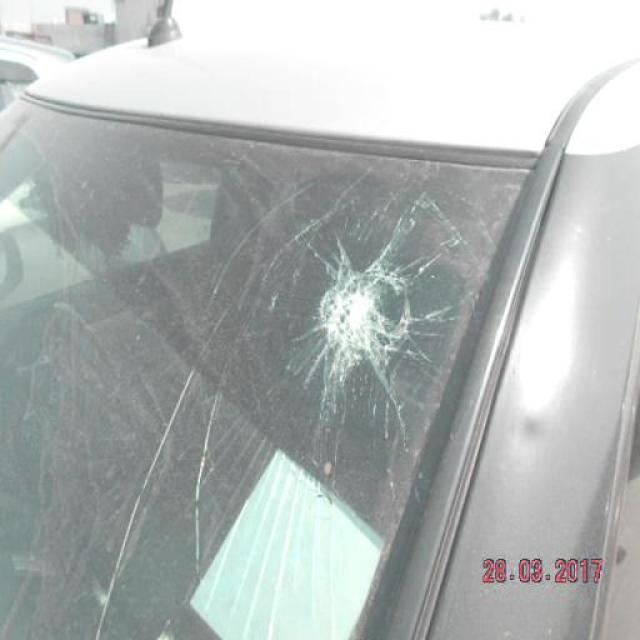Car-Damage: (277, 200, 440, 419)
